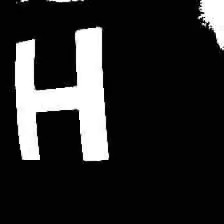LTR_H: (4, 17, 117, 170)
